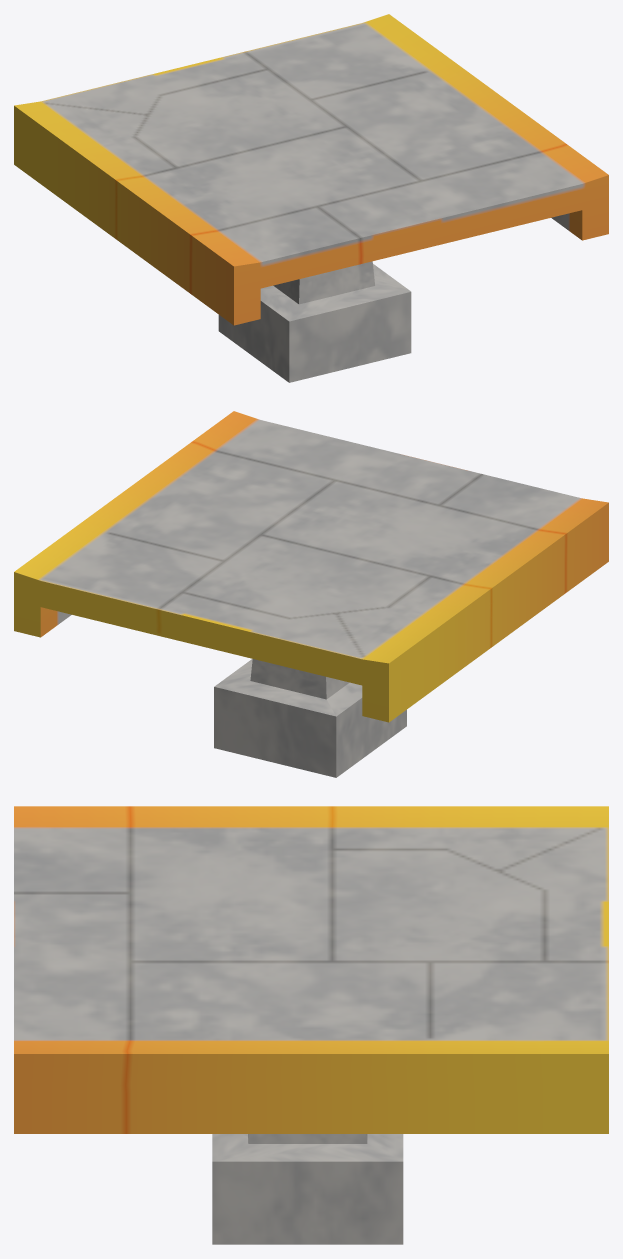
The model's file is Pad_01_Base.fbx.
3 renders of one model, top to bottom at view 1: azimuth 30°, elevation 25°; view 2: azimuth 150°, elevation 25°; view 3: azimuth 270°, elevation 25°, orthographic. The views are drawn at different scales.
Parts seen in each view (by area): view 1: Pad_01, Pad_01_Base; view 2: Pad_01, Pad_01_Base; view 3: Pad_01, Pad_01_Base.
Boxes of the visible parts, x1,y1,x2,y2 form: Pad_01: (14,14,608,325); Pad_01_Base: (218,261,411,382); Pad_01: (14,411,608,722); Pad_01_Base: (214,659,406,777); Pad_01: (14,806,608,1133); Pad_01_Base: (212,1134,403,1244).
Bounding box in the file's own units: 19.63 × 10.08 × 19.93.
Materials: 1 (1 with a texture image).
